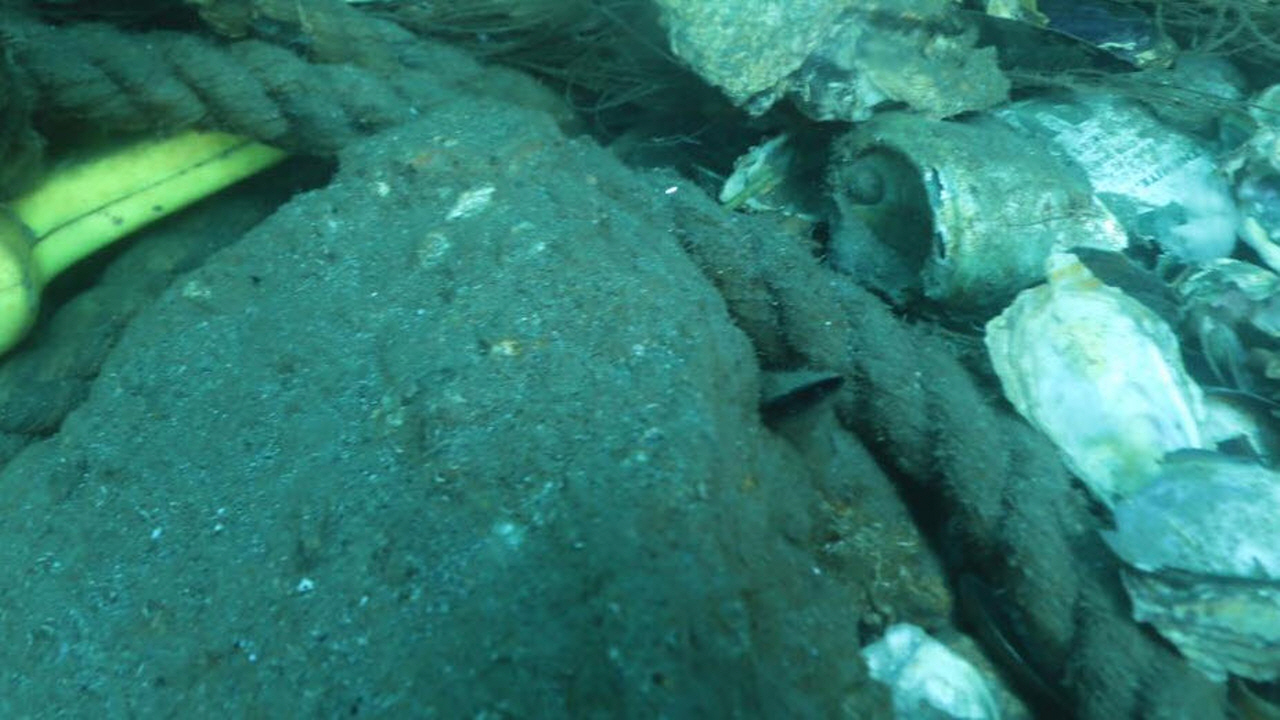rope: (0, 14, 1229, 720)
